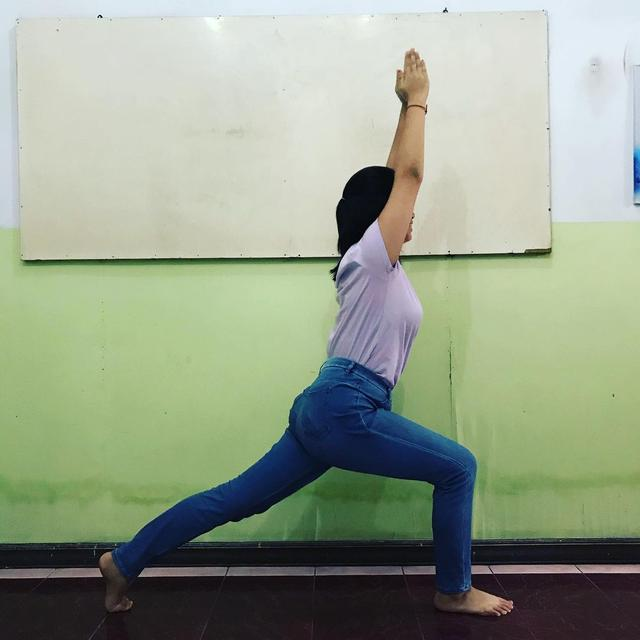Warrior_I: (89, 38, 522, 615)
